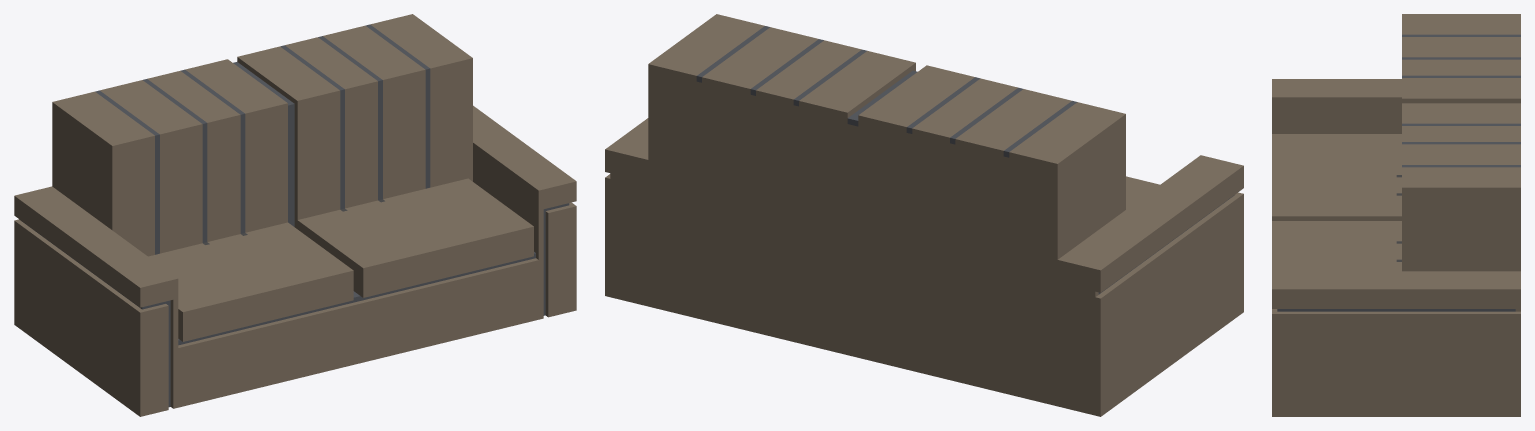
The model's file is couch.obj.
3 views of the same model, side by side, from view 1: azimuth 30°, elevation 25°; view 2: azimuth 150°, elevation 25°; view 3: azimuth 270°, elevation 25° (orthographic). The views are drawn at different scales.
Size of the model in its own units: 92 by 43 by 46.
1 material, 1 textured.
